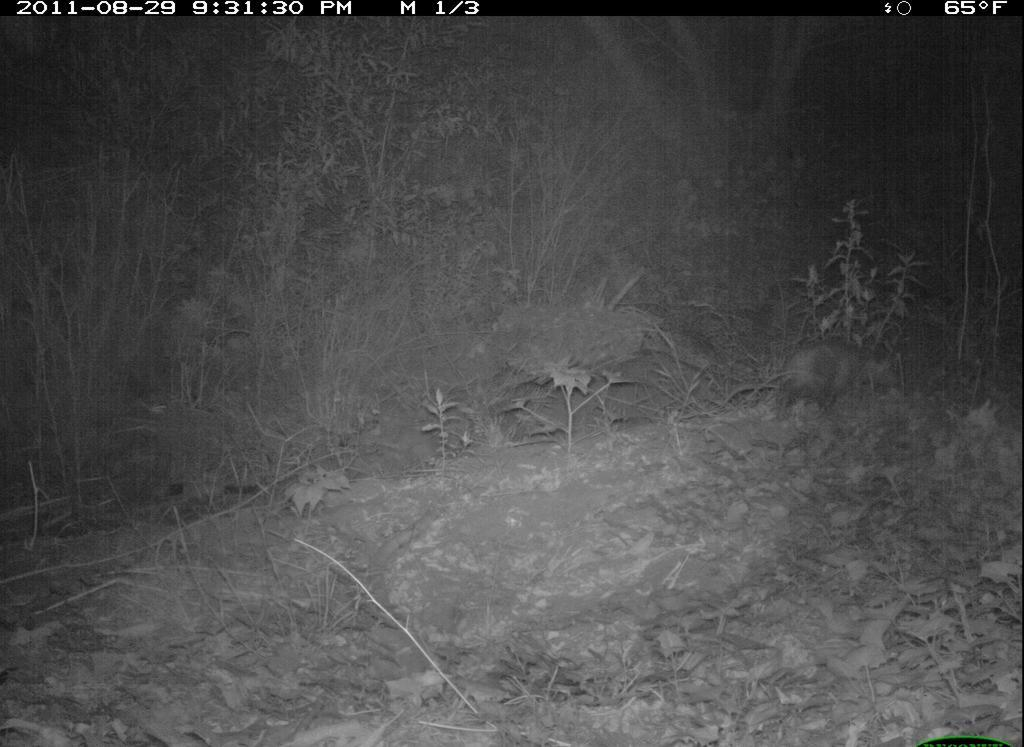opossum: (740, 333, 913, 425)
